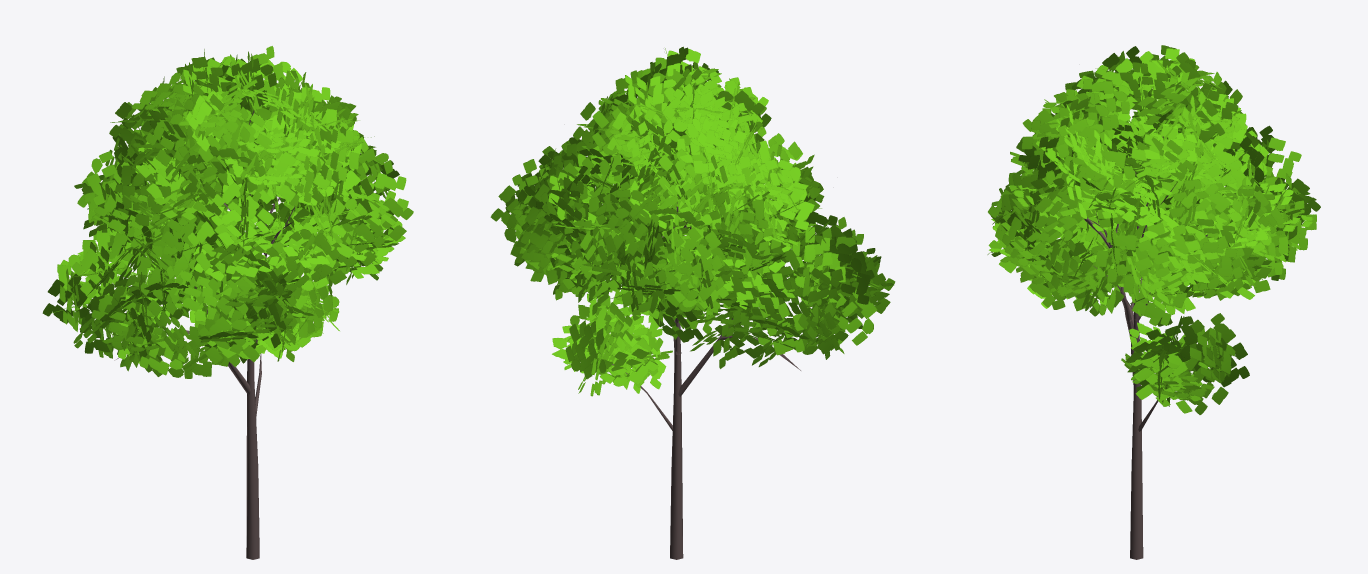
Rendered from tree_deciduous_01.glb.
The picture shows the model from 3 angles, left to right: view 1: azimuth 30°, elevation 25°; view 2: azimuth 150°, elevation 25°; view 3: azimuth 270°, elevation 25°; orthographic projection.
Visible parts, largest first — view 1: env; view 2: env; view 3: env.
Boxes of the visible parts, bbox=[...] form: env: bbox=[42, 46, 413, 559]; env: bbox=[490, 46, 895, 559]; env: bbox=[987, 45, 1320, 559].
Size of the model in its own units: 3.47 by 4.43 by 3.04.
Materials: 1 (1 with a texture image).
